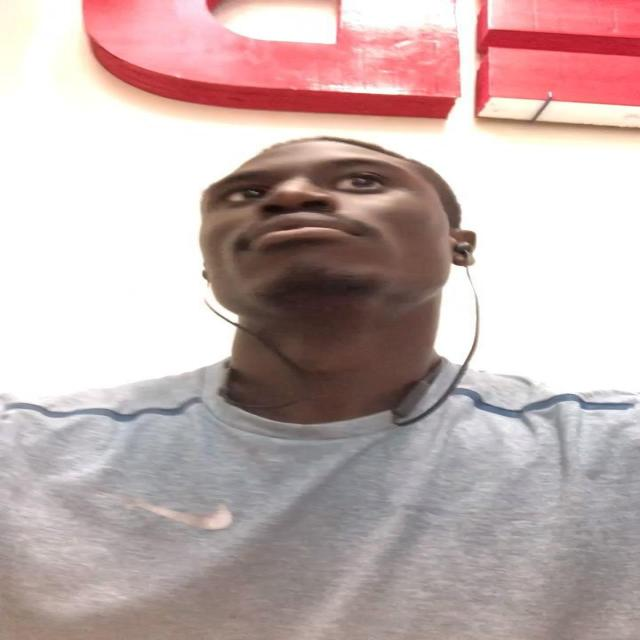face: (192, 140, 452, 324)
